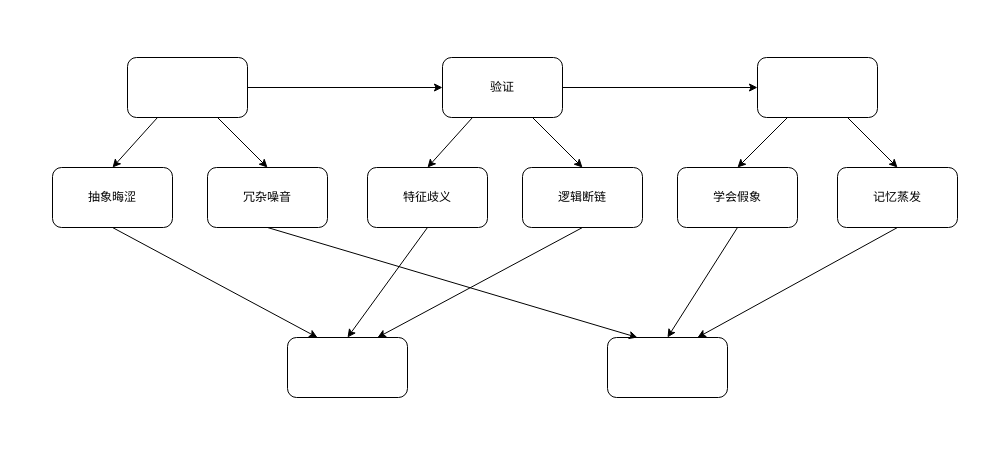
Some shapes in this 1004 by 474 pixel diagram are drawn without their labels. Here are the shapes that lost their labels. From the top down, the centre of each, then its label:
the point at 187,87: 解析
the point at 817,87: 留存
the point at 347,367: 复杂度增加 Complexity
the point at 667,367: 效率降低 Efficiency
